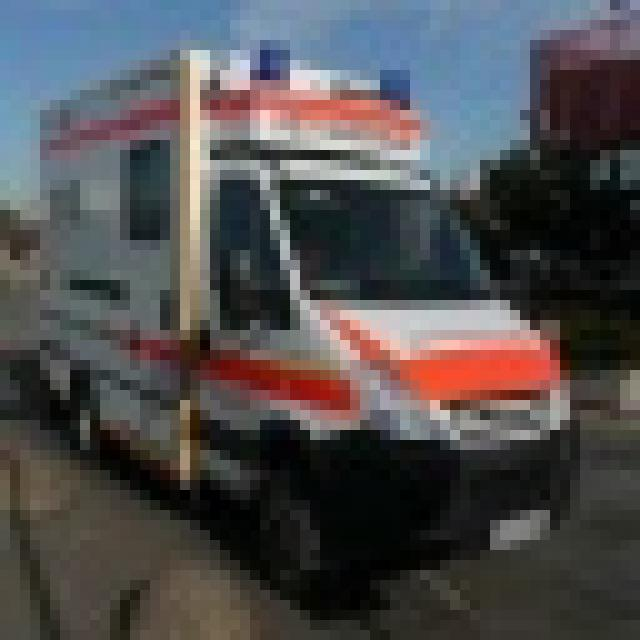Ambulance: (30, 30, 580, 600)
